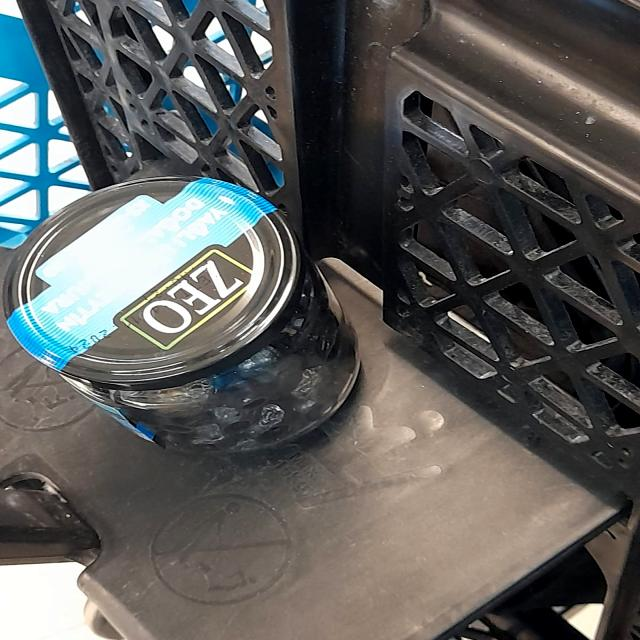olive: (9, 180, 376, 463)
